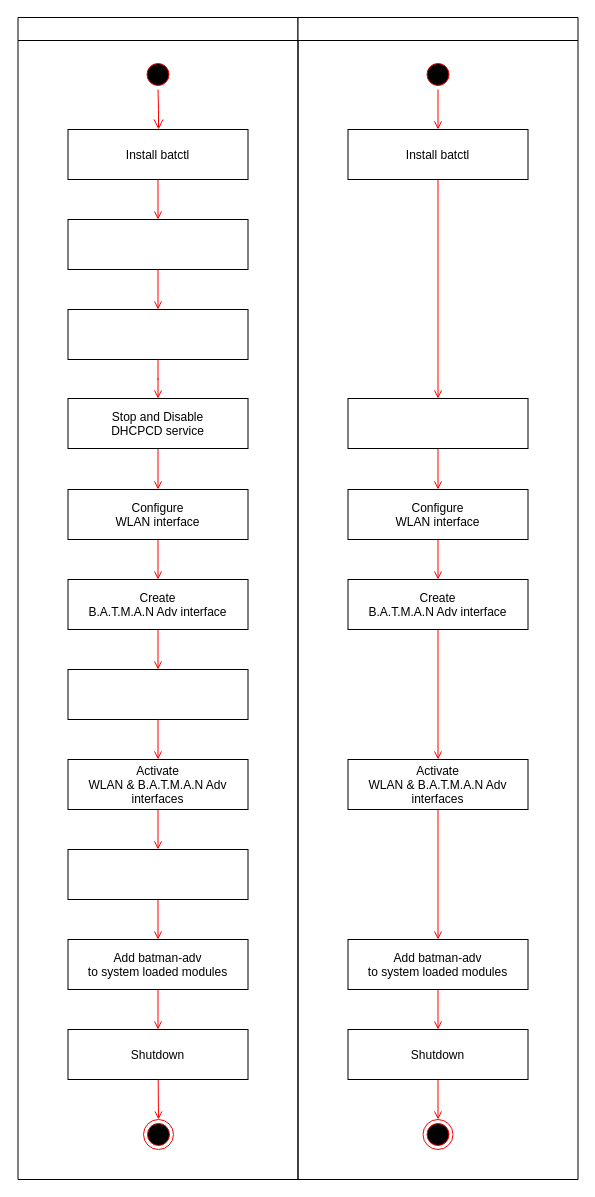
This 595x1197 diagram has some shape labels left out. The box of each missing label's shape, as (x1, y1, x2, y2) in pixels:
Aggregator: (17, 16, 298, 1180)
Downgrade Wireless card firmware: (67, 218, 248, 270)
Enable Port forwarding: (67, 668, 248, 720)
Gateways: (297, 16, 578, 1180)
Prevent DHCPCD service from managing WLAN interface: (347, 398, 528, 448)
Setup dnsmasq & NTP servers: (67, 848, 248, 900)
Stop and Disable WPA Supplicant service: (67, 308, 248, 360)
